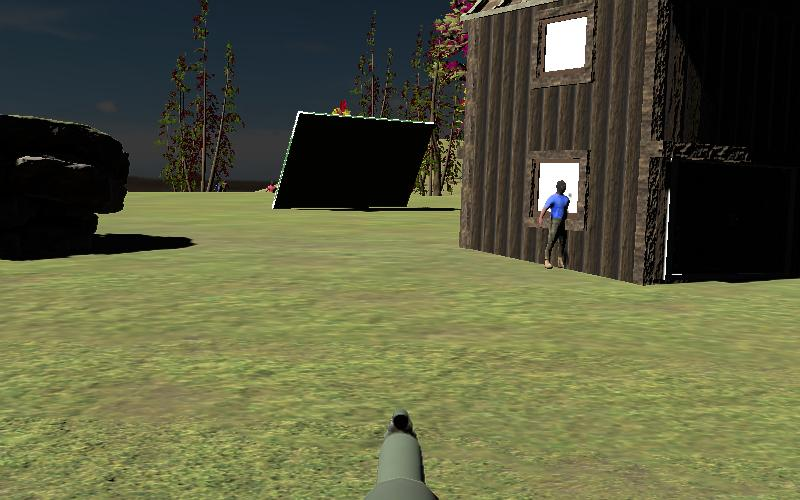House: (457, 1, 800, 279)
Human: (537, 180, 574, 270)
